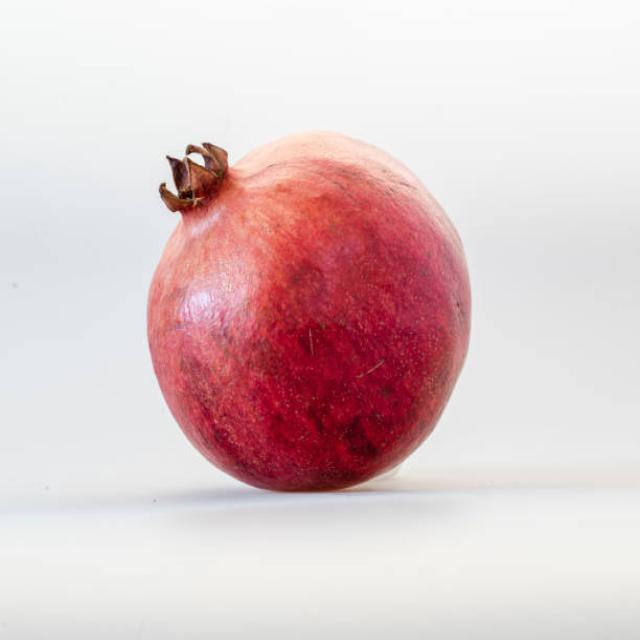Pomegranate: (144, 124, 476, 497)
